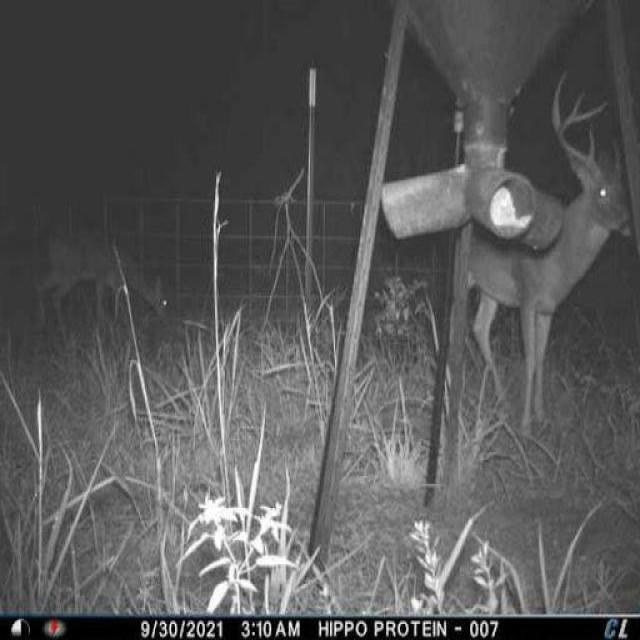deer: (442, 62, 640, 473), (31, 210, 180, 347)
